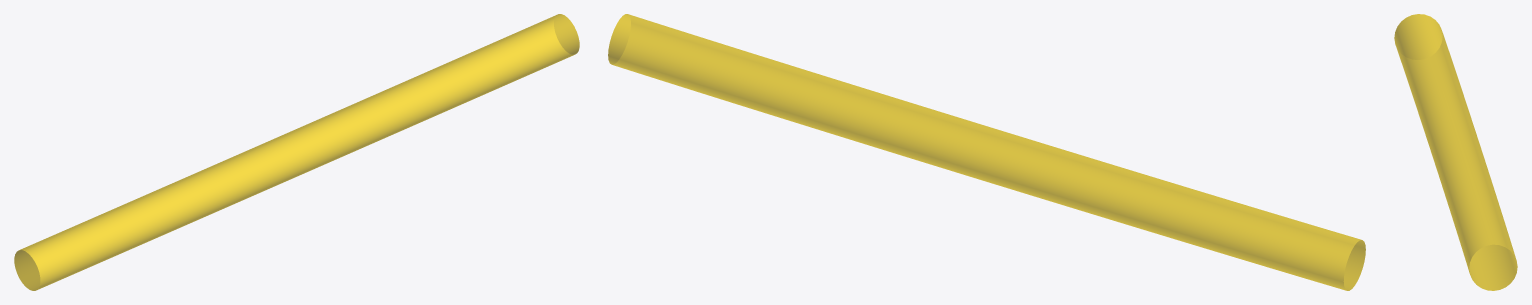
Rendered from Event_402970704_track_29.fbx.
3 renders of one model, left to right at view 1: azimuth 30°, elevation 25°; view 2: azimuth 150°, elevation 25°; view 3: azimuth 270°, elevation 25°, orthographic. The views are drawn at different scales.
Parts seen in each view (by area): view 1: Model; view 2: Model; view 3: Model.
Part boxes in pixels (<box>): Model: <box>14,14,579,290</box>; Model: <box>608,14,1365,290</box>; Model: <box>1394,14,1517,290</box>.
Size of the model in its own units: 0.6087 by 0.1116 by 0.1012.
